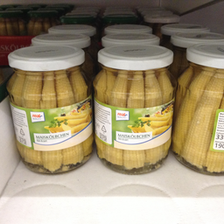corn: (4, 43, 94, 176), (93, 43, 178, 176), (174, 42, 224, 174)
